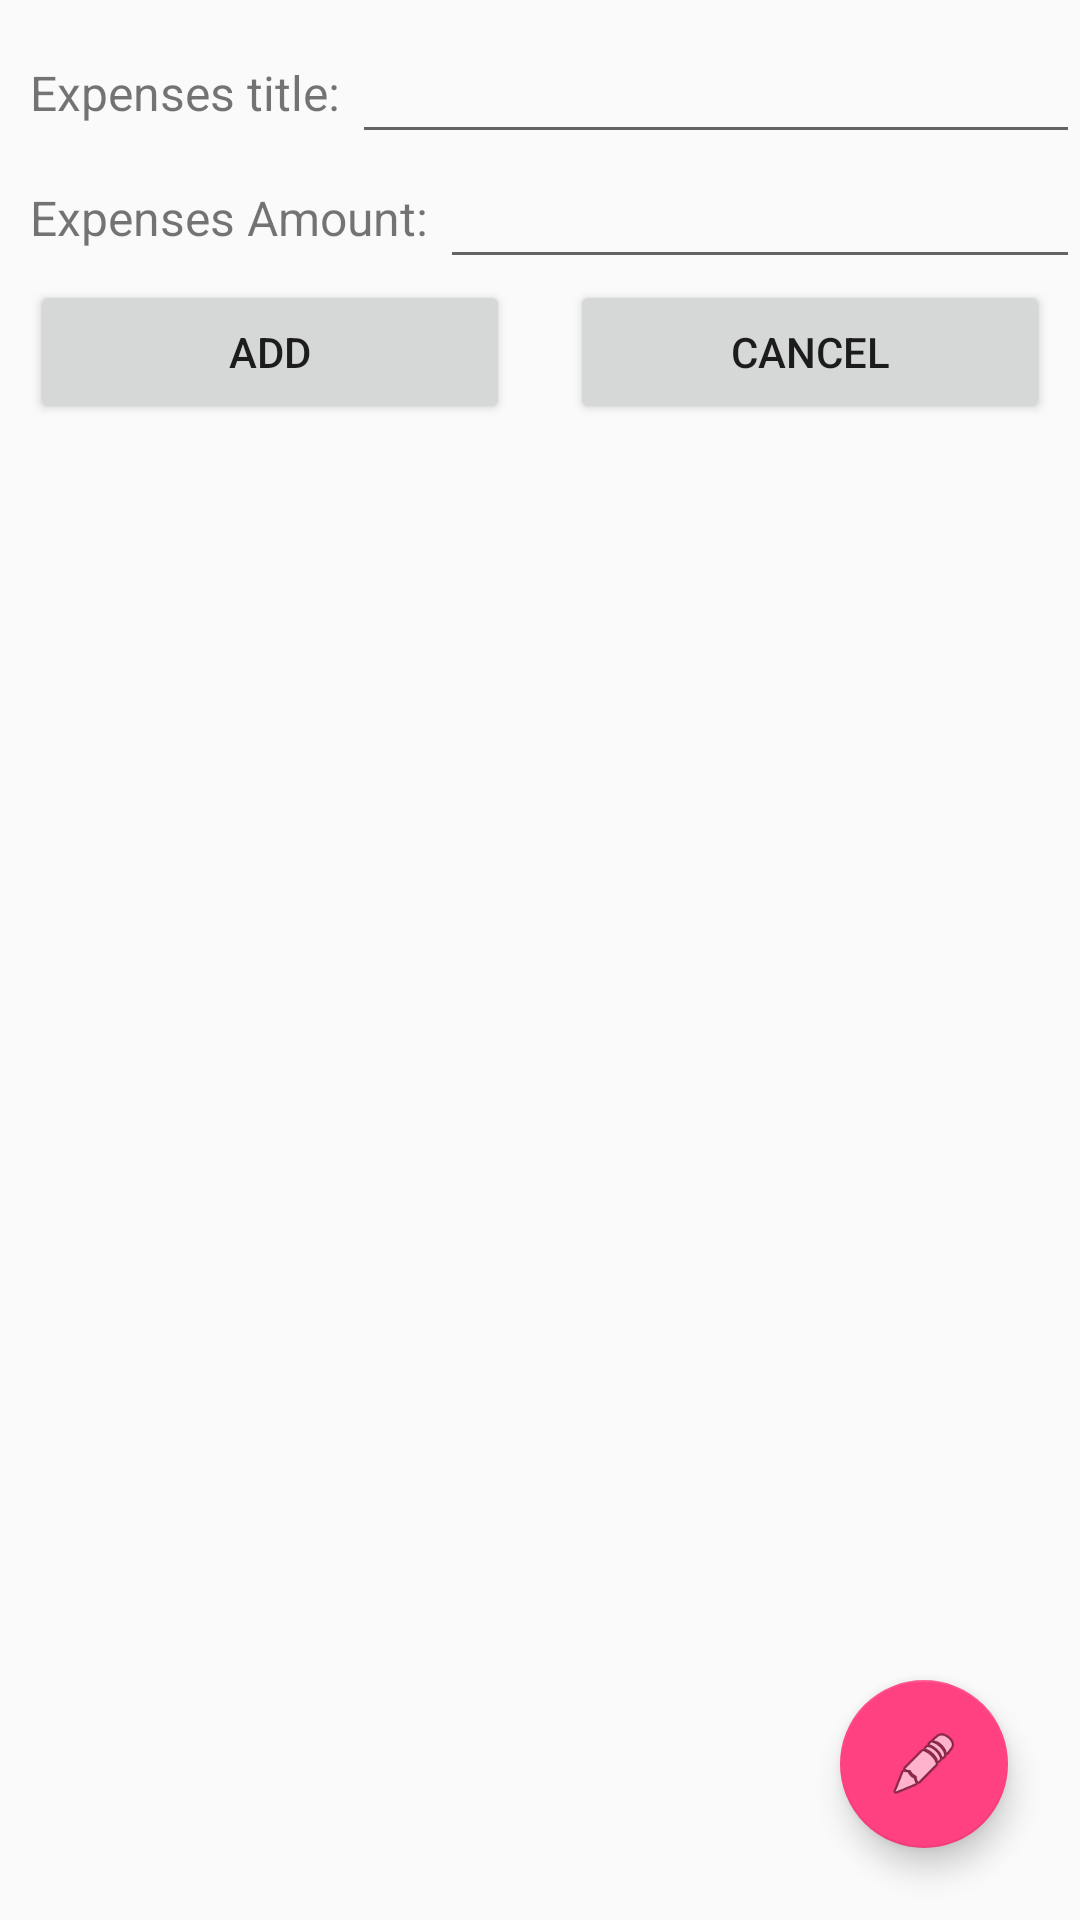

Locate icon controls on the screen. Image size 1080×1920, boxes as (x1, y1, x2, y2).
edit: (840, 1680, 1008, 1848)
